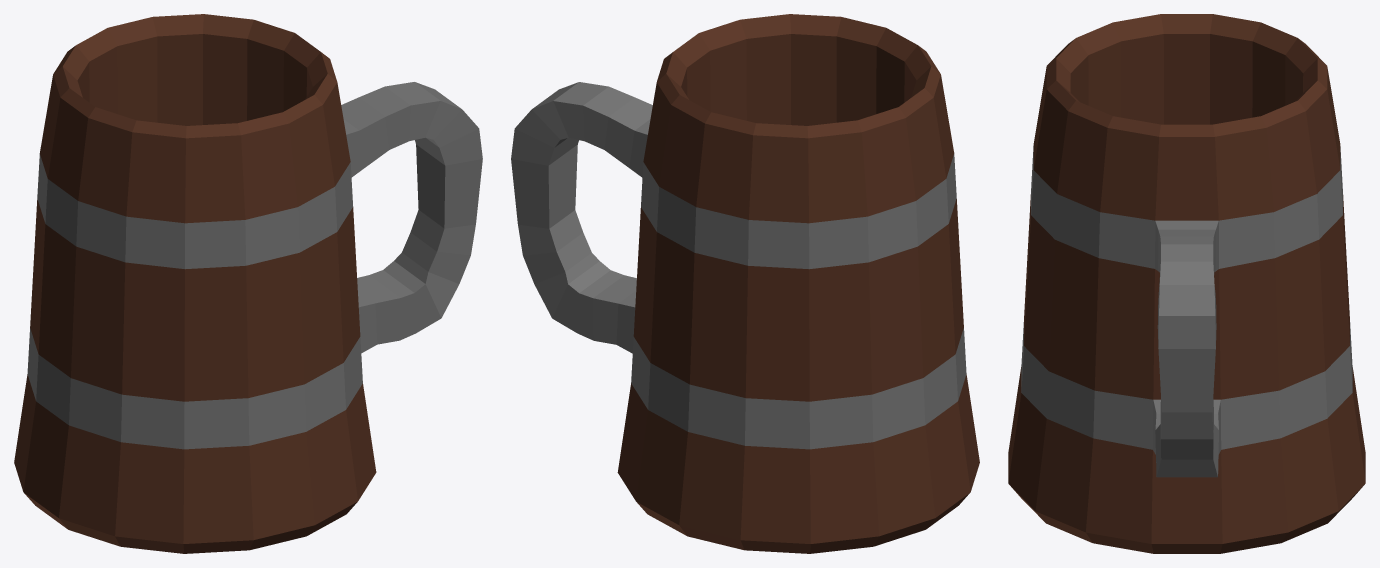
File: LowPoly_BeerMug.fbx
3 renders of one model, left to right at view 1: azimuth 30°, elevation 25°; view 2: azimuth 150°, elevation 25°; view 3: azimuth 270°, elevation 25°, orthographic.
Parts seen in each view (by area): view 1: Mug; view 2: Mug; view 3: Mug.
Part boxes in pixels (bbox=[...]): Mug: bbox=[14, 14, 482, 553]; Mug: bbox=[511, 14, 979, 553]; Mug: bbox=[1008, 14, 1365, 553].
Size of the model in its own units: 20.21 by 18.64 by 14.58.
